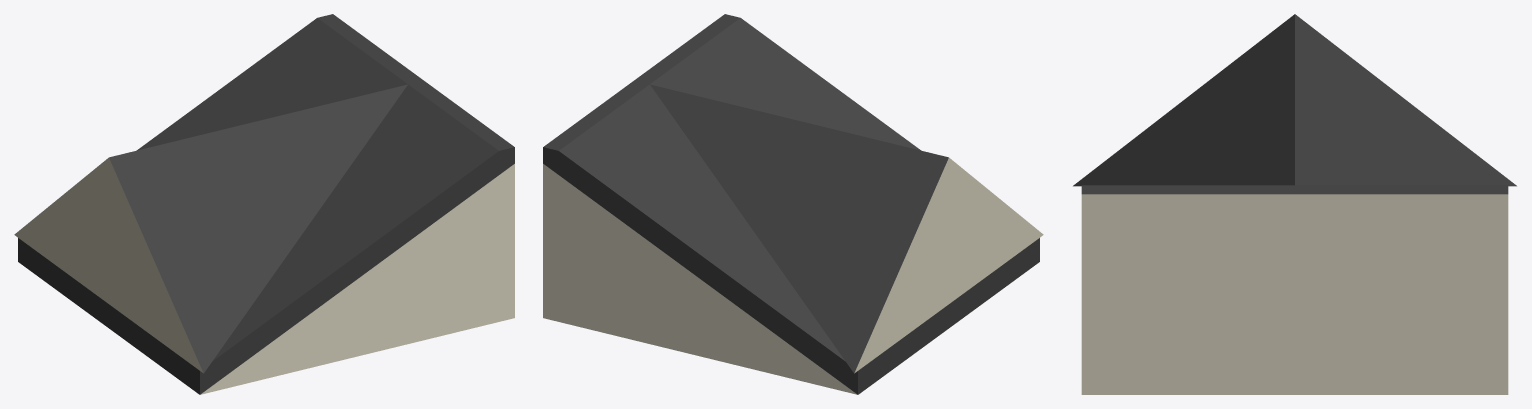
File: modularBuildings_044.fbx
The picture shows the model from 3 angles, left to right: view 1: azimuth 30°, elevation 25°; view 2: azimuth 150°, elevation 25°; view 3: azimuth 270°, elevation 25°; orthographic projection. The views are drawn at different scales.
Parts seen in each view (by area): view 1: Roof.Roof.Roof, Brick.Mesh1 Group1 Model; view 2: Roof.Roof.Roof, Brick.Mesh1 Group1 Model; view 3: Brick.Mesh1 Group1 Model, Roof.Roof.Roof.
Part boxes in pixels (box(x1,y1,x2,y2)): Roof.Roof.Roof: box(18, 14, 514, 394); Brick.Mesh1 Group1 Model: box(14, 157, 514, 394); Roof.Roof.Roof: box(543, 14, 1039, 394); Brick.Mesh1 Group1 Model: box(543, 157, 1043, 394); Brick.Mesh1 Group1 Model: box(1081, 194, 1508, 394); Roof.Roof.Roof: box(1073, 14, 1516, 194).
Size of the model in its own units: 1 by 0.5188 by 1.04.
